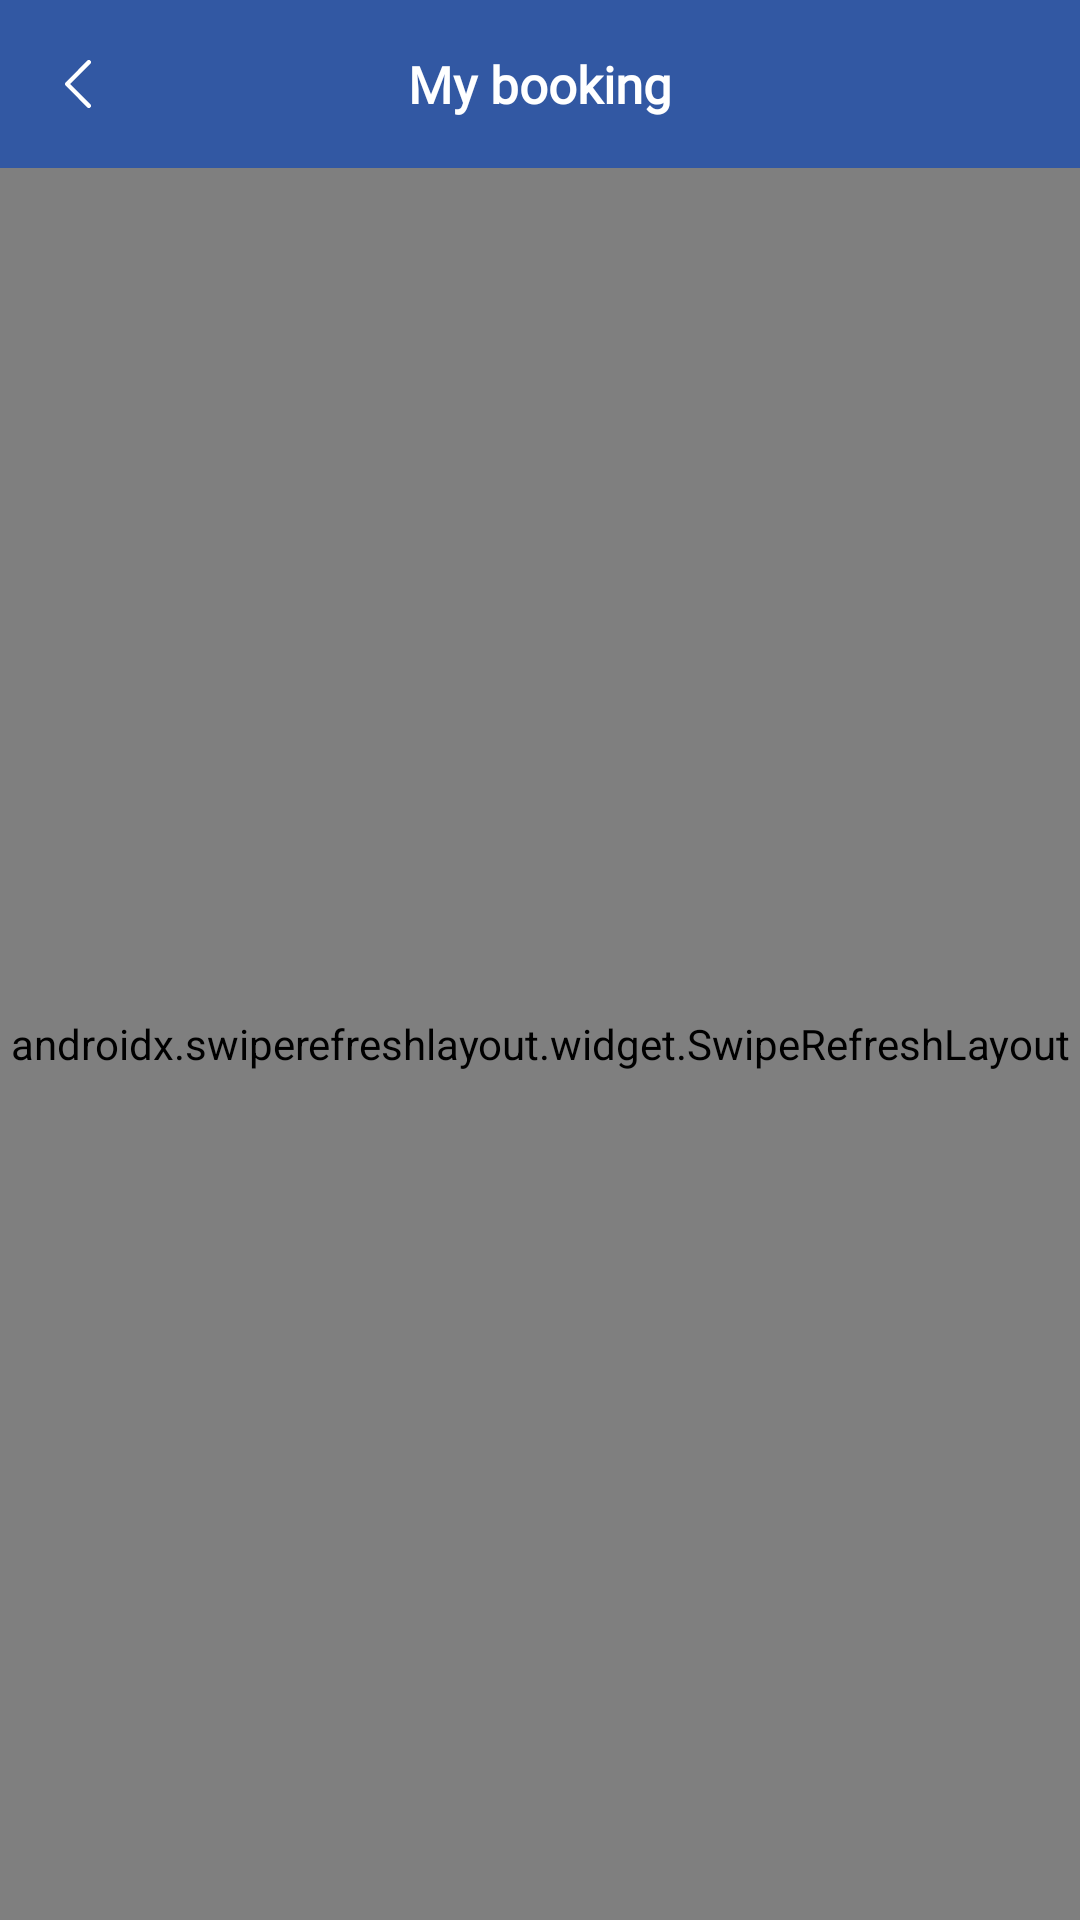

Icons on this 1080px×1920px Android screen, each with its box as rect(x1, y1, x2, y2):
back: rect(65, 60, 91, 108)
